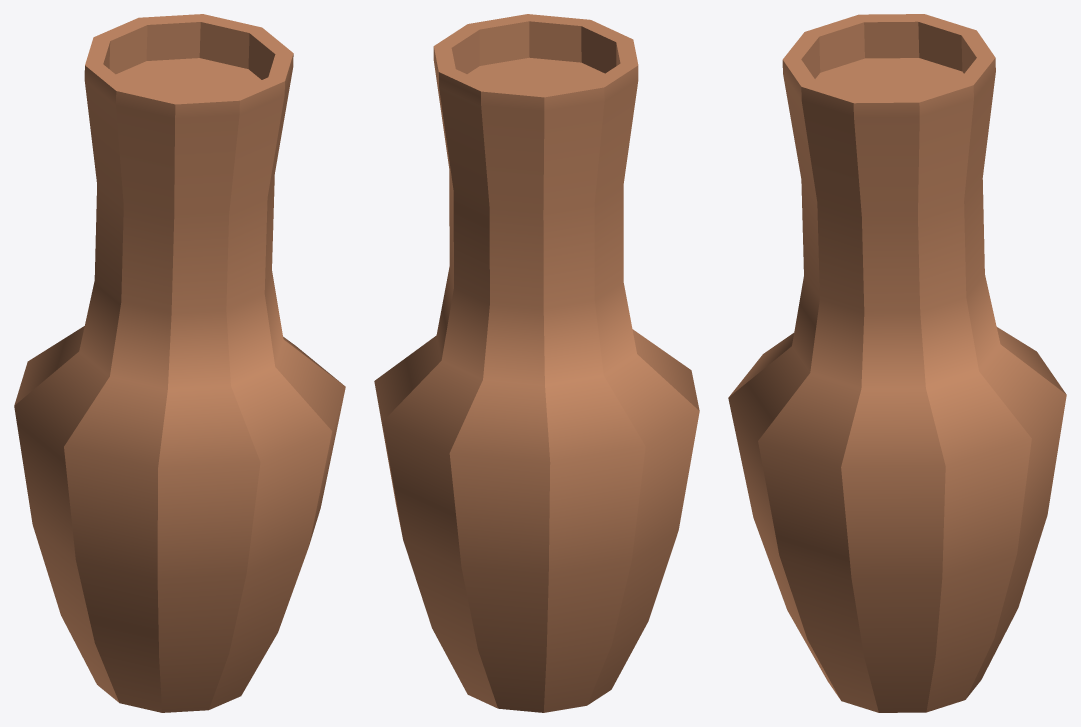
Rendered from Vaso_4_low.fbx.
3 renders of one model, left to right at view 1: azimuth 30°, elevation 25°; view 2: azimuth 150°, elevation 25°; view 3: azimuth 270°, elevation 25°, orthographic.
Visible parts, largest first — view 1: Vaso_4_low; view 2: Vaso_4_low; view 3: Vaso_4_low.
Part boxes in pixels (x1=…): Vaso_4_low: x1=14, y1=14, x2=345, y2=712; Vaso_4_low: x1=374, y1=14, x2=699, y2=712; Vaso_4_low: x1=728, y1=14, x2=1066, y2=712.
Bounding box in the file's own units: 0.3058 × 0.6562 × 0.3188.
